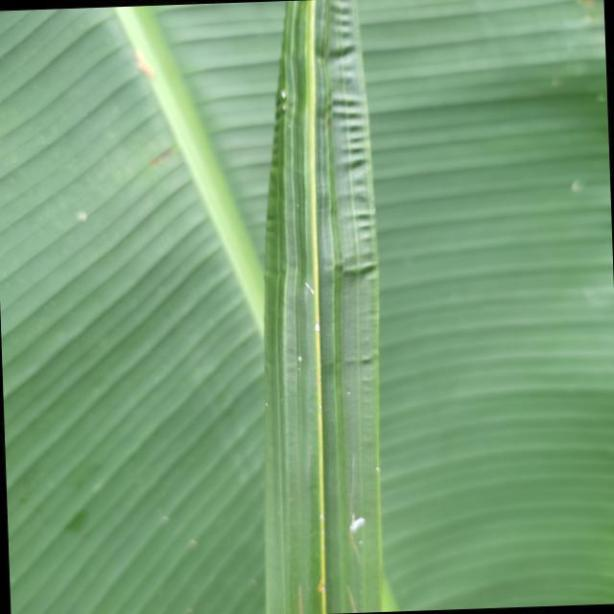Boron: (257, 0, 392, 614)
